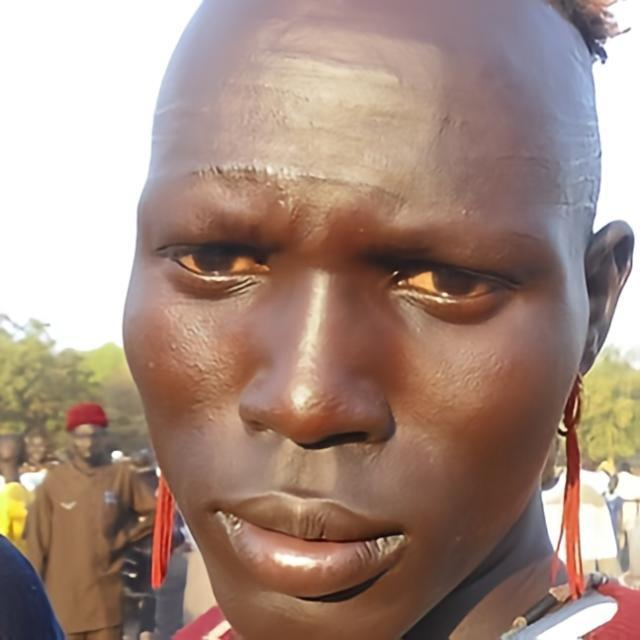anger: (120, 0, 600, 640)
